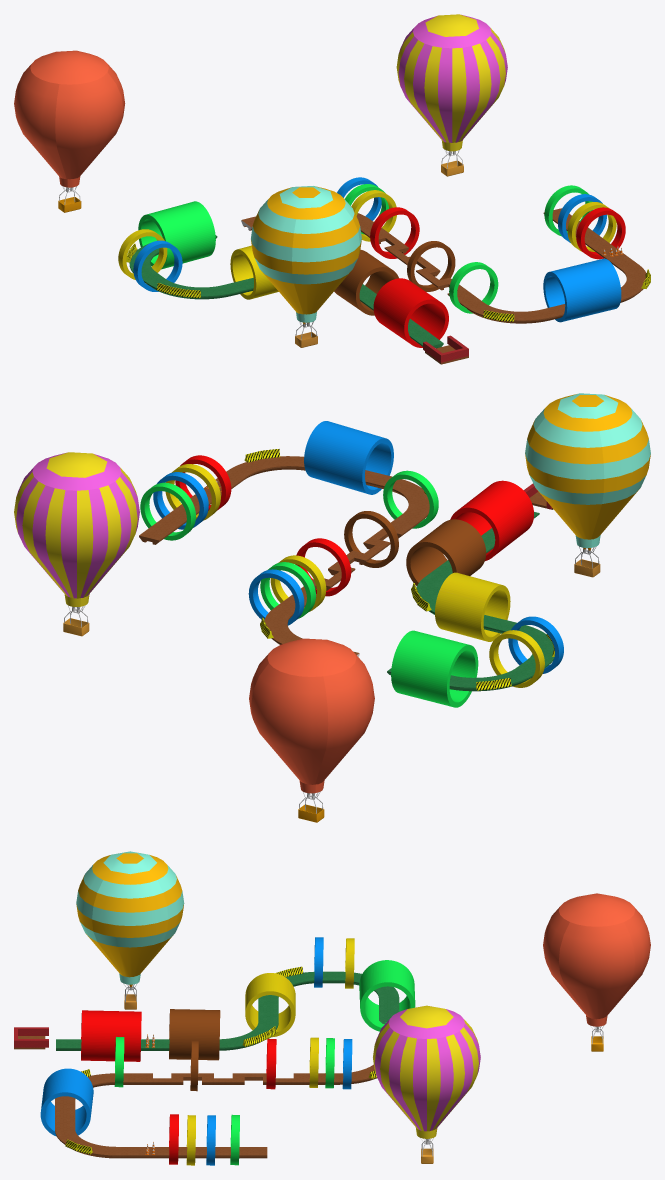
The model's file is LEVEL 4.fbx.
The picture shows the model from 3 angles, top to bottom: view 1: azimuth 30°, elevation 25°; view 2: azimuth 150°, elevation 25°; view 3: azimuth 270°, elevation 25°; orthographic projection. The views are drawn at different scales.
Parts seen in each view (by area): view 1: ballon_1, ballon, ballon_2, polySurface1, blue_tunnel_, green_tunnel, red_tunnel_, polySurface2, brown_tunnel, yellow_tunnel, red_ring__1_, red_ring__2_ (+9 smaller); view 2: ballon_2, ballon, ballon_1, polySurface1, green_tunnel, blue_tunnel_, yellow_tunnel, red_tunnel_, brown_tunnel, polySurface2, green_ring__2_, green_ring__1_ (+10 smaller); view 3: ballon, ballon_1, ballon_2, polySurface1, polySurface2, red_tunnel_, brown_tunnel, green_tunnel, blue_tunnel_, yellow_tunnel, red_ring__1_, red_ring__2_ (+9 smaller).
Boxes of the visible parts, x1,y1,x2,y2 form: ballon_1: (14, 50, 125, 212); ballon: (396, 14, 507, 176); ballon_2: (251, 186, 361, 347); polySurface1: (241, 208, 646, 323); blue_tunnel_: (543, 258, 621, 322); green_tunnel: (138, 201, 215, 269); red_tunnel_: (373, 278, 448, 347); polySurface2: (129, 235, 443, 348); brown_tunnel: (334, 249, 398, 315); yellow_tunnel: (230, 245, 278, 299); red_ring__1_: (370, 207, 419, 258); red_ring__2_: (576, 207, 625, 259); ballon_2: (525, 393, 650, 577); ballon: (14, 452, 139, 636); ballon_1: (249, 638, 374, 822); polySurface1: (139, 456, 429, 654); green_tunnel: (391, 630, 478, 707); blue_tunnel_: (304, 421, 393, 494); yellow_tunnel: (435, 572, 510, 641); red_tunnel_: (450, 480, 533, 560); brown_tunnel: (406, 519, 486, 586); polySurface2: (387, 512, 554, 691); green_ring__2_: (140, 482, 195, 540); green_ring__1_: (383, 470, 438, 528); ballon: (373, 1005, 480, 1163); ballon_1: (543, 893, 650, 1051); ballon_2: (76, 851, 184, 1009); polySurface1: (55, 1064, 376, 1158); polySurface2: (56, 971, 399, 1050); red_tunnel_: (81, 1010, 141, 1061); brown_tunnel: (169, 1009, 220, 1060); green_tunnel: (359, 960, 415, 1031); blue_tunnel_: (40, 1068, 93, 1136); yellow_tunnel: (245, 973, 295, 1037); red_ring__1_: (266, 1038, 276, 1089); red_ring__2_: (169, 1114, 178, 1164).
Bounding box in the file's own units: 6042 × 2663 × 8162.
Materials: 24 (9 with a texture image).
